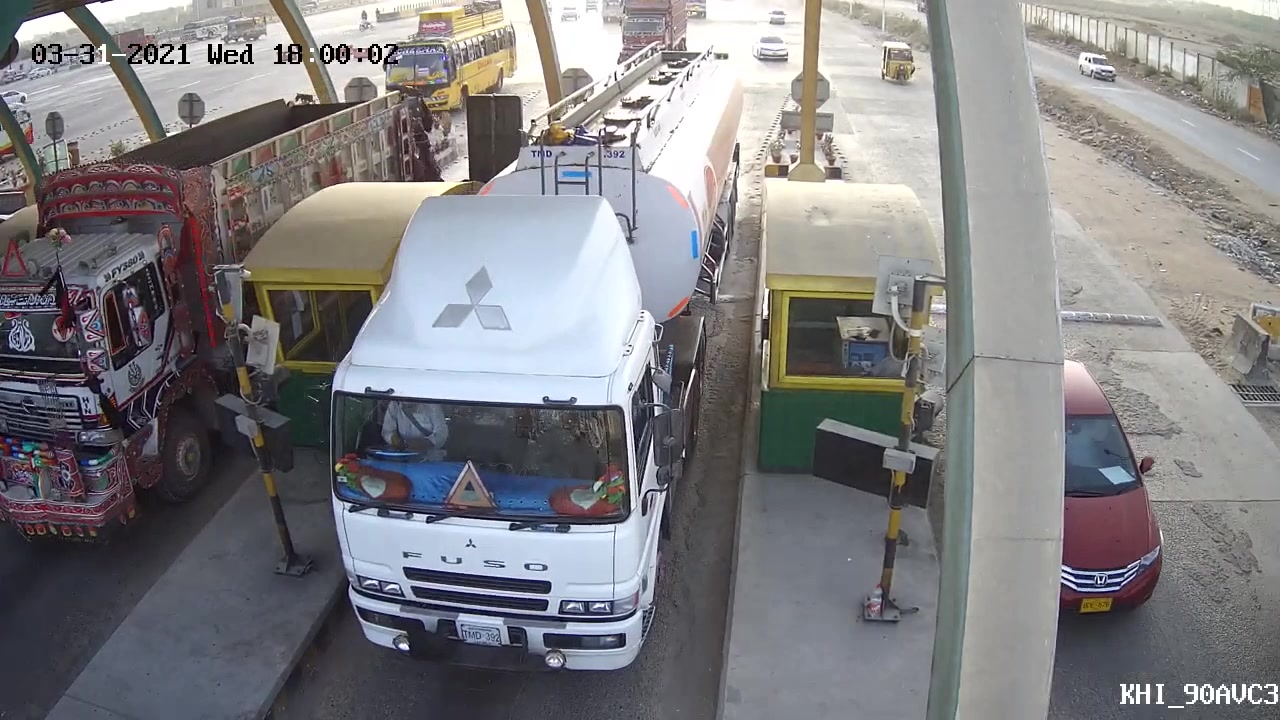F6: (301, 47, 753, 679)
